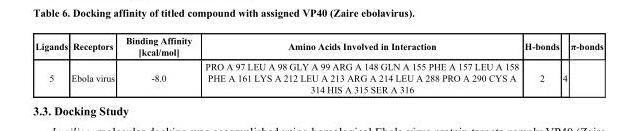table: (34, 34, 602, 94)
table column: (197, 34, 521, 94), (119, 34, 197, 94), (68, 34, 119, 94), (521, 34, 560, 94), (34, 34, 68, 94), (568, 34, 602, 94), (560, 34, 568, 94)
table column header: (34, 34, 602, 58)
table row: (34, 58, 602, 94), (34, 34, 602, 58)
